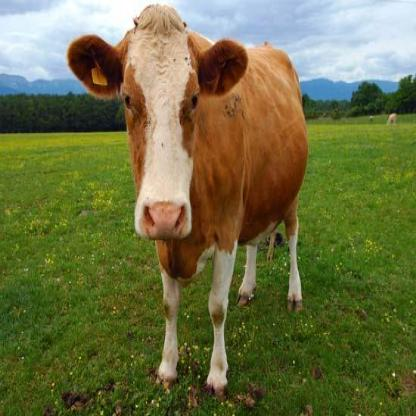cow: (67, 6, 307, 392)
